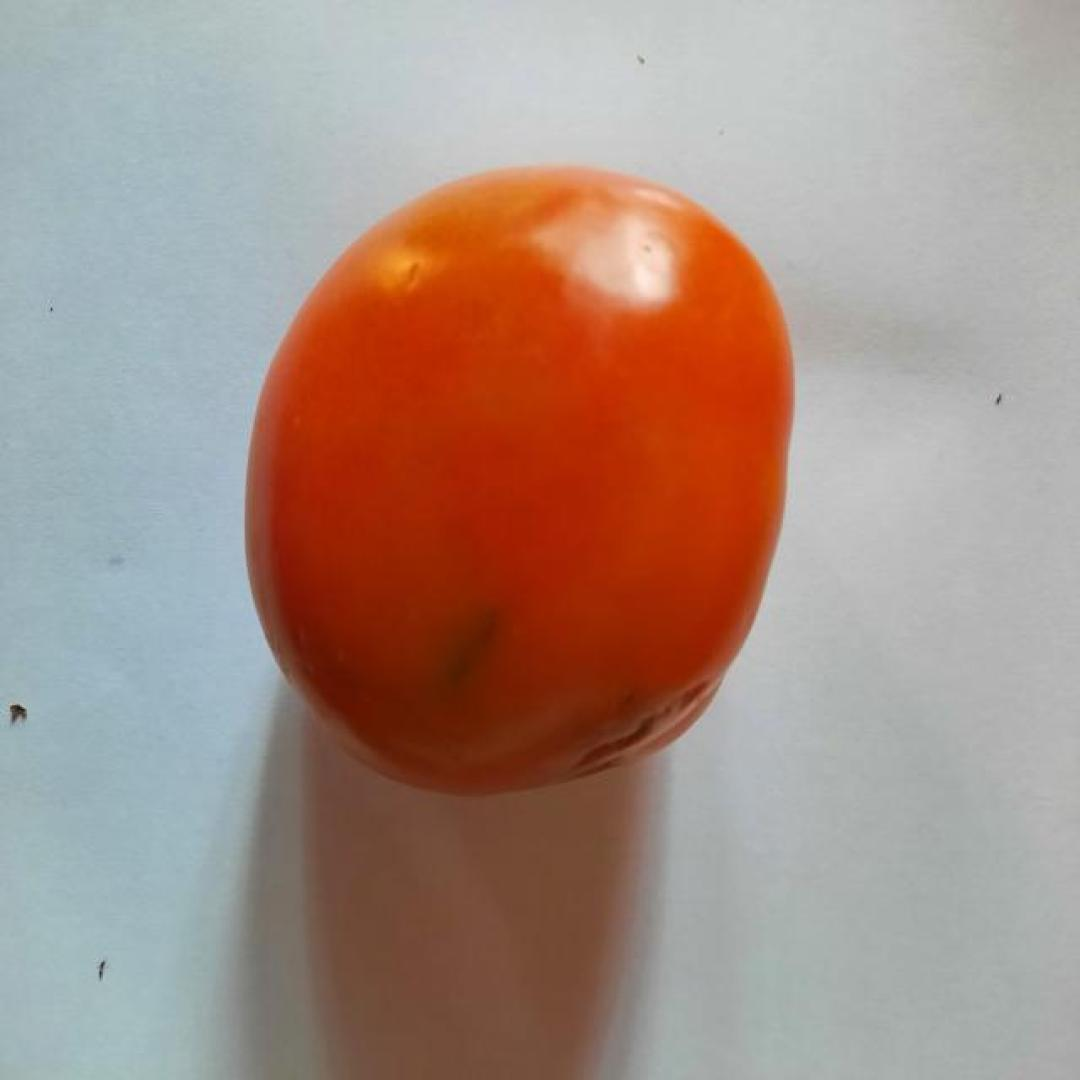matang: (241, 162, 798, 802)
